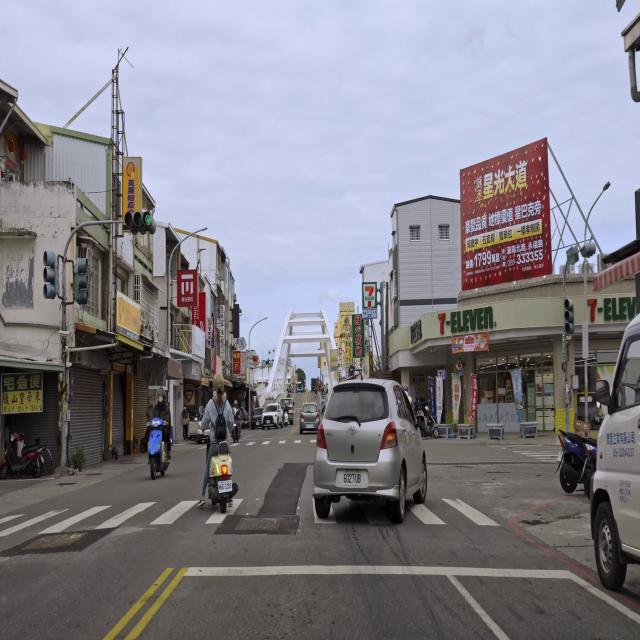green light: (124, 211, 153, 229)
